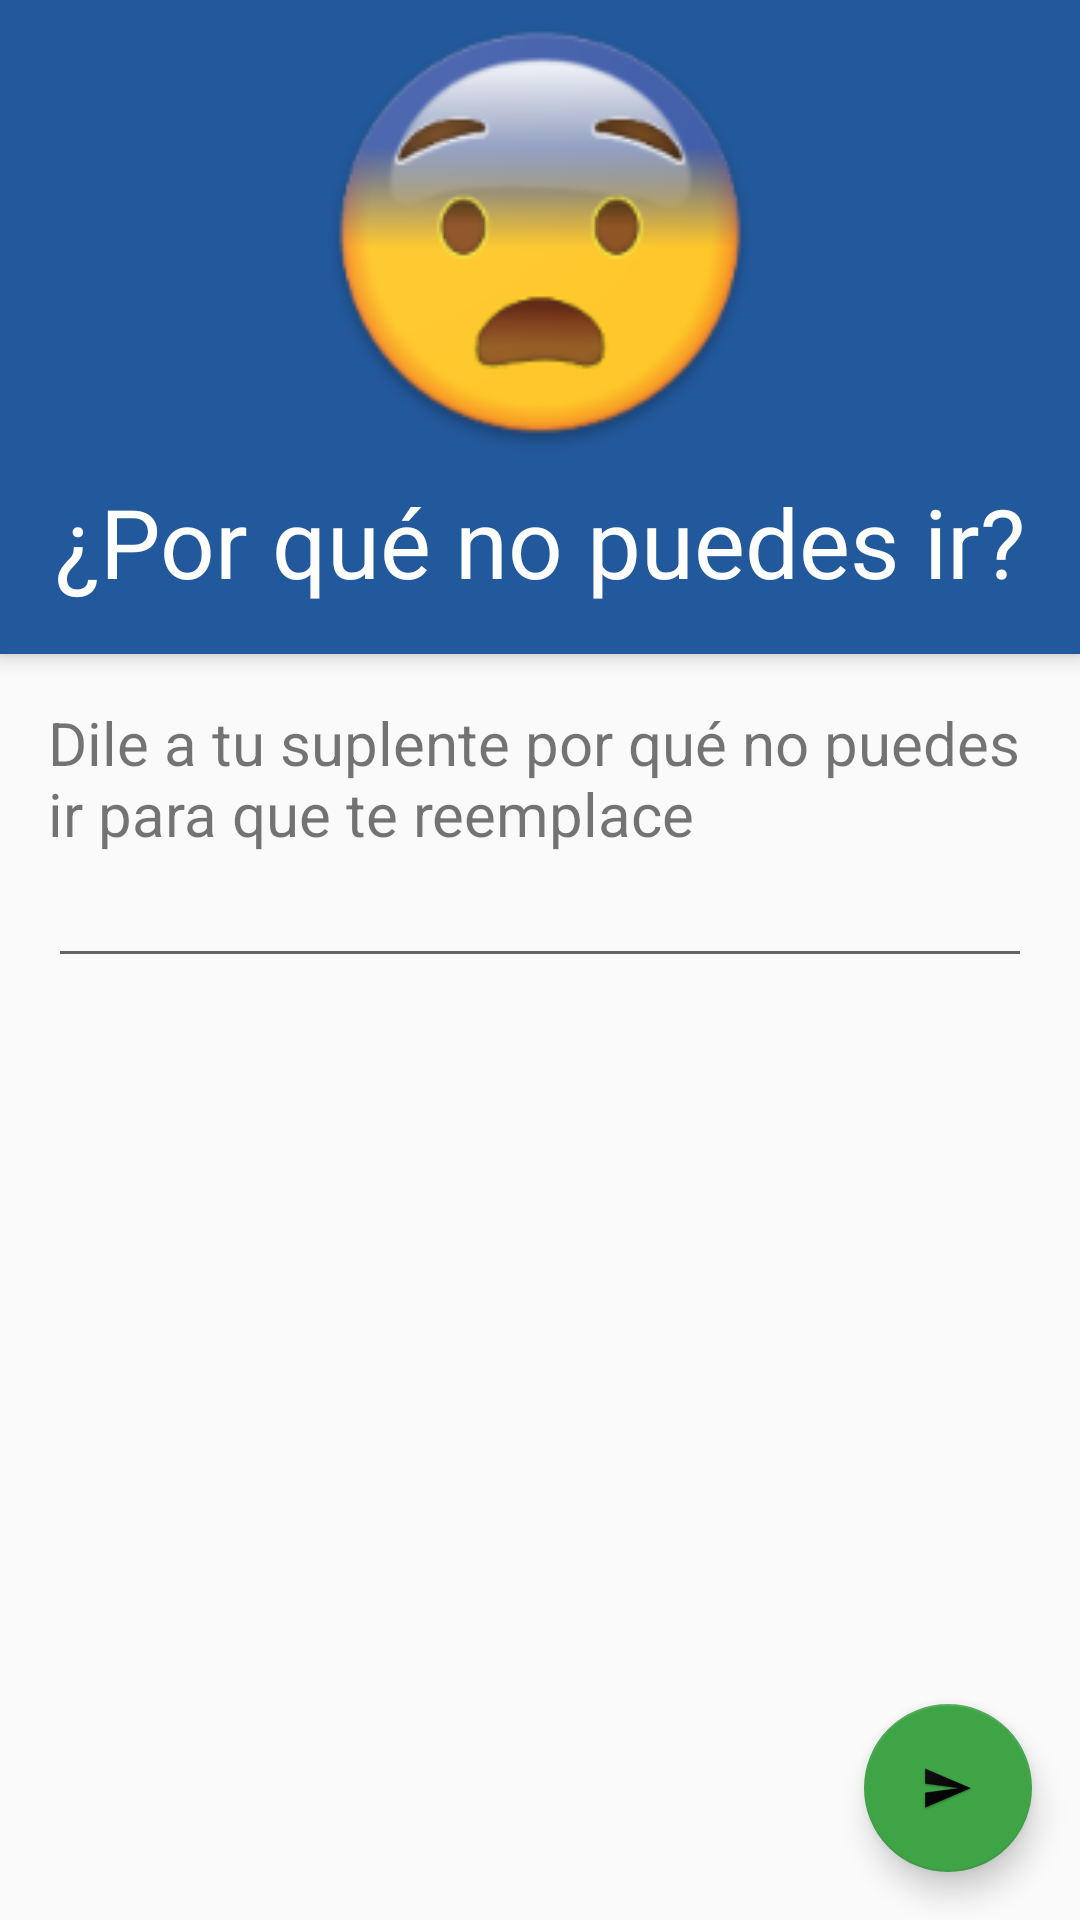

Named icons in this screenshot (1080w x 1920h) and their bounding boxes, (x1, y1, x2, y2):
send: (864, 1704, 1032, 1872)
